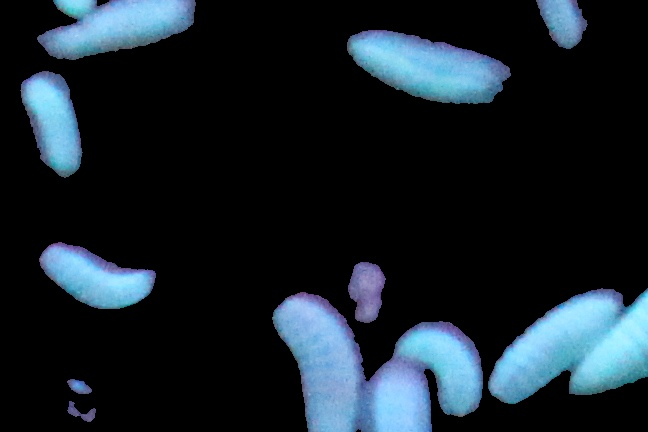larvae: (490, 293, 617, 404), (271, 300, 368, 432), (352, 33, 500, 98), (40, 1, 194, 57), (568, 292, 648, 396), (40, 244, 151, 311), (398, 328, 479, 415), (21, 72, 81, 178), (362, 353, 434, 432)
